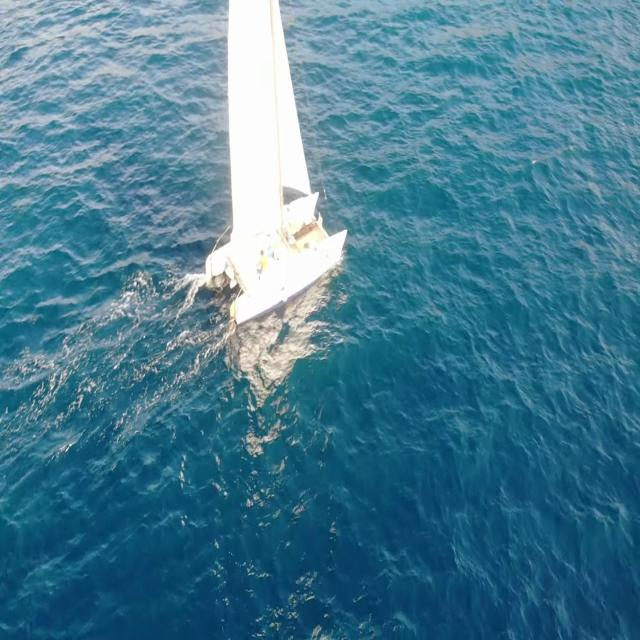sailboat: (202, 0, 347, 320)
